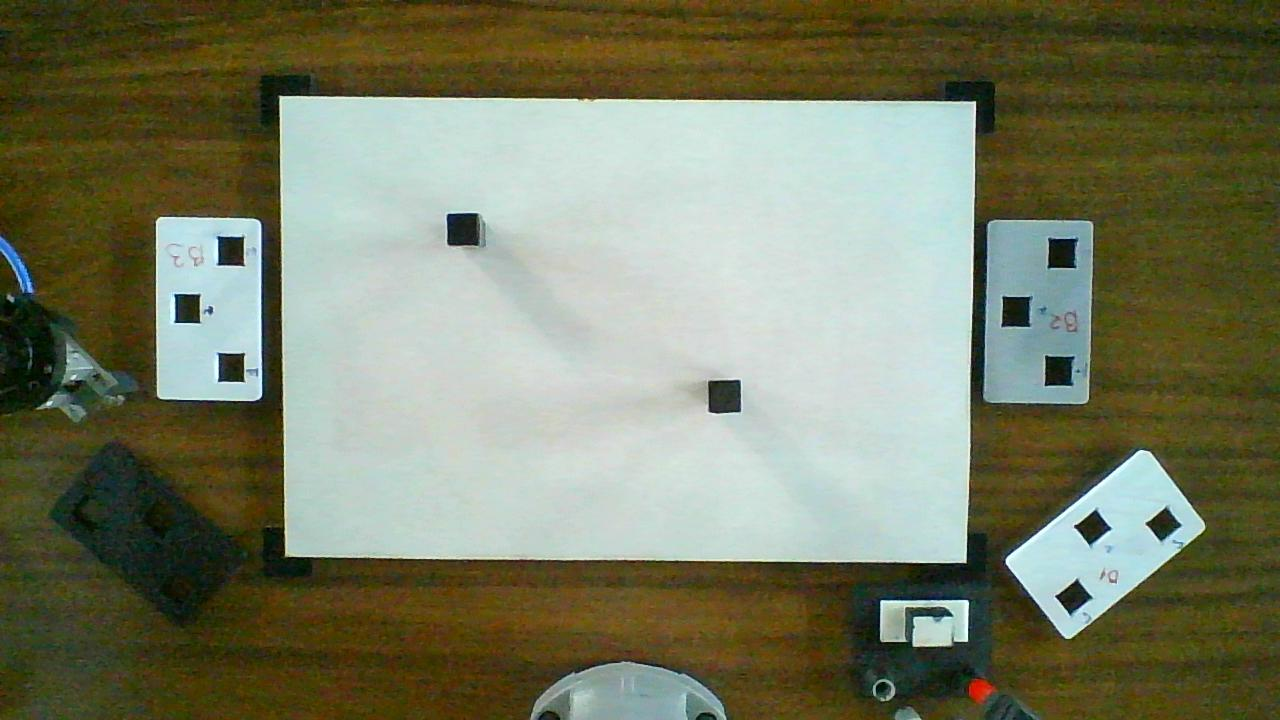peca_preta: (448, 214, 478, 244), (710, 381, 739, 412)
